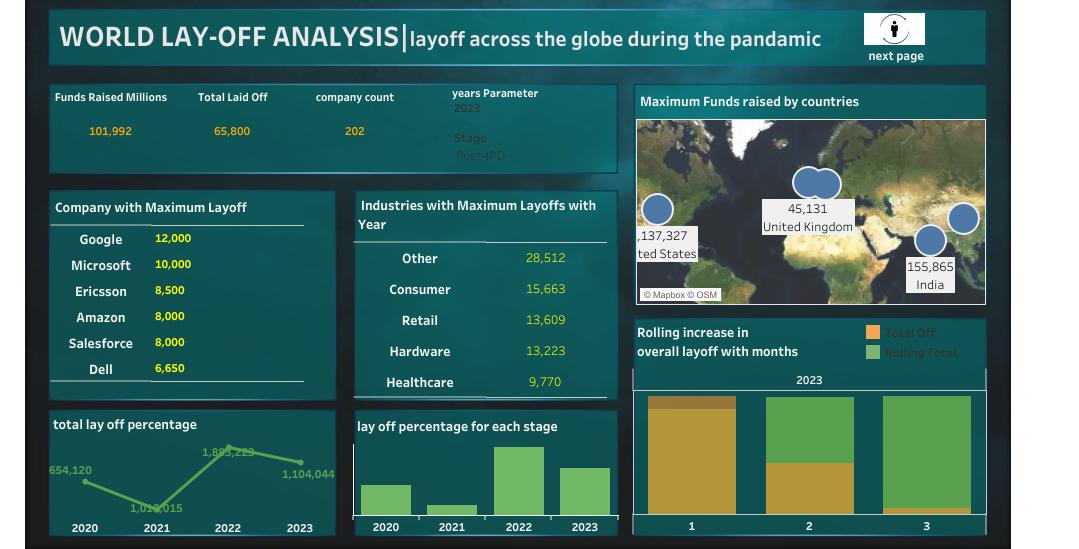

What the dashboard file says about the page in this screenshot:
{"tool":"tableau","page":{"name":"dashboard1","canvas":[1080,550],"ordinal":0},"visuals":[{"type":"dashboard-object","box":[864,12,61,34]},{"type":"text","box":[56,14,802,42]},{"type":"text","box":[866,45,64,19]},{"type":"worksheet","title":"kpy","mark":"Automatic","box":[50,84,417,90]},{"type":"parameter","param":"[Parameters].[years Parameter]","box":[452,84,160,42]},{"type":"worksheet","title":"Sheet 2","mark":"Automatic","box":[636,85,350,220]},{"type":"filter","title":"lay off percentage for each stage ","param":"[federated.1ryh55y0i9xtkl17nzmnn0ai57m3].[none:stage:nk]","box":[454,127,160,44]},{"type":"worksheet","title":"Sheet 3","mark":"Automatic","rows":["industry"],"box":[354,189,264,212]},{"type":"worksheet","title":"Sheet 1","mark":"Automatic","rows":["Company"],"box":[51,191,284,209]},{"type":"worksheet","title":"Sheet 4","mark":"Bar","rows":["rolling_total","total_off"],"box":[633,316,354,219]},{"type":"legend","title":"Sheet 4","param":"[federated.10o34b007a7qax18npn1x1mghcr8].[:Measure Names]","box":[863,322,110,56]},{"type":"worksheet","title":"total lay off percentage","mark":"Line","rows":["total_off"],"box":[49,408,287,128]},{"type":"worksheet","title":"lay off percentage for each stage ","mark":"Automatic","rows":["percentage_laid_off"],"cols":["date - Split 1"],"box":[353,410,265,125]}]}

Visuals, with their boxes in screenshot pixels (x1, y1, x2, y2), scaled from the page's 1080x550 canvas onto the 1079x549 screenshot:
dashboard-object: rect(863, 12, 924, 46)
text: rect(56, 14, 857, 56)
text: rect(865, 45, 929, 64)
"kpy" worksheet: rect(50, 84, 467, 174)
parameter: rect(452, 84, 611, 126)
"Sheet 2" worksheet: rect(635, 85, 985, 304)
"lay off percentage for each stage " filter: rect(454, 127, 613, 171)
"Sheet 3" worksheet: rect(354, 189, 617, 400)
"Sheet 1" worksheet: rect(51, 191, 335, 399)
"Sheet 4" worksheet (Bar marks): rect(632, 315, 986, 534)
"Sheet 4" legend: rect(862, 321, 972, 377)
"total lay off percentage" worksheet (Line marks): rect(49, 407, 336, 535)
"lay off percentage for each stage " worksheet: rect(353, 409, 617, 534)
